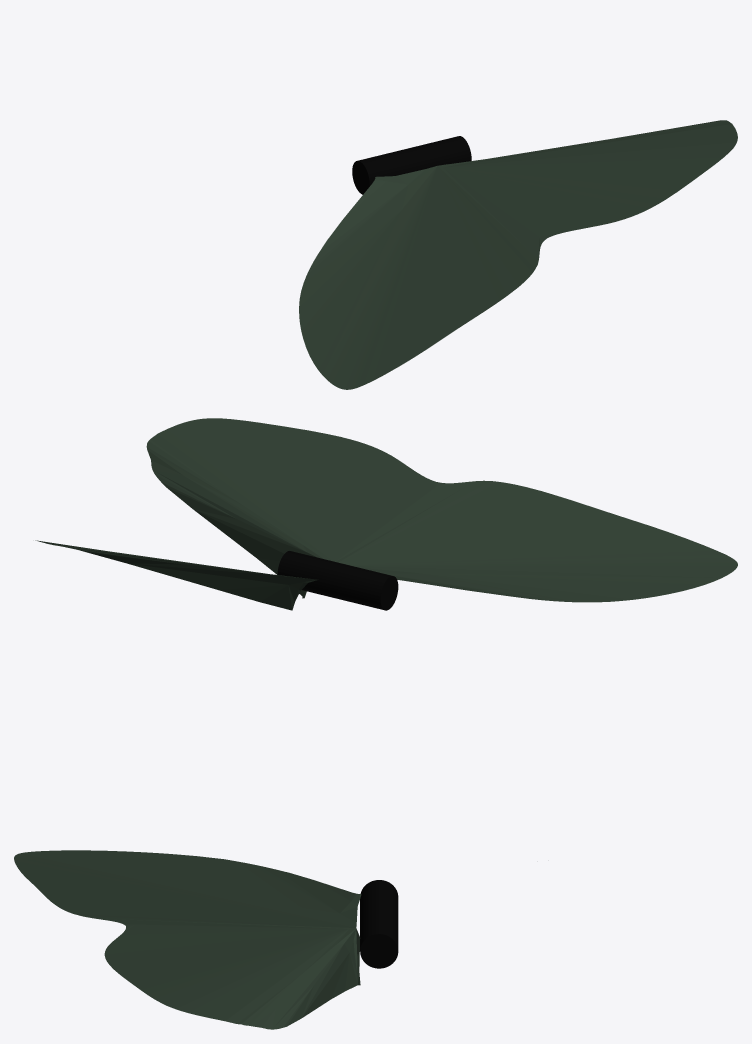
File: borboleta oficial.fbx
3 renders of one model, top to bottom at view 1: azimuth 30°, elevation 25°; view 2: azimuth 150°, elevation 25°; view 3: azimuth 270°, elevation 25°, orthographic. The views are drawn at different scales.
Visible parts, largest first — view 1: Circle.001, Cylinder; view 2: Circle.001, Circle, Cylinder; view 3: Circle.001, Cylinder.
Boxes of the visible parts, left/top/right/bottom form: Circle.001: left=299, top=120, right=737, bottom=389; Cylinder: left=352, top=136, right=471, bottom=194; Circle.001: left=146, top=418, right=737, bottom=602; Circle: left=35, top=540, right=318, bottom=610; Cylinder: left=277, top=551, right=398, bottom=610; Circle.001: left=14, top=850, right=361, bottom=1029; Cylinder: left=360, top=880, right=398, bottom=968.
Bounding box in the file's own units: 302 × 57.05 × 354.
3 materials, 3 textured.
